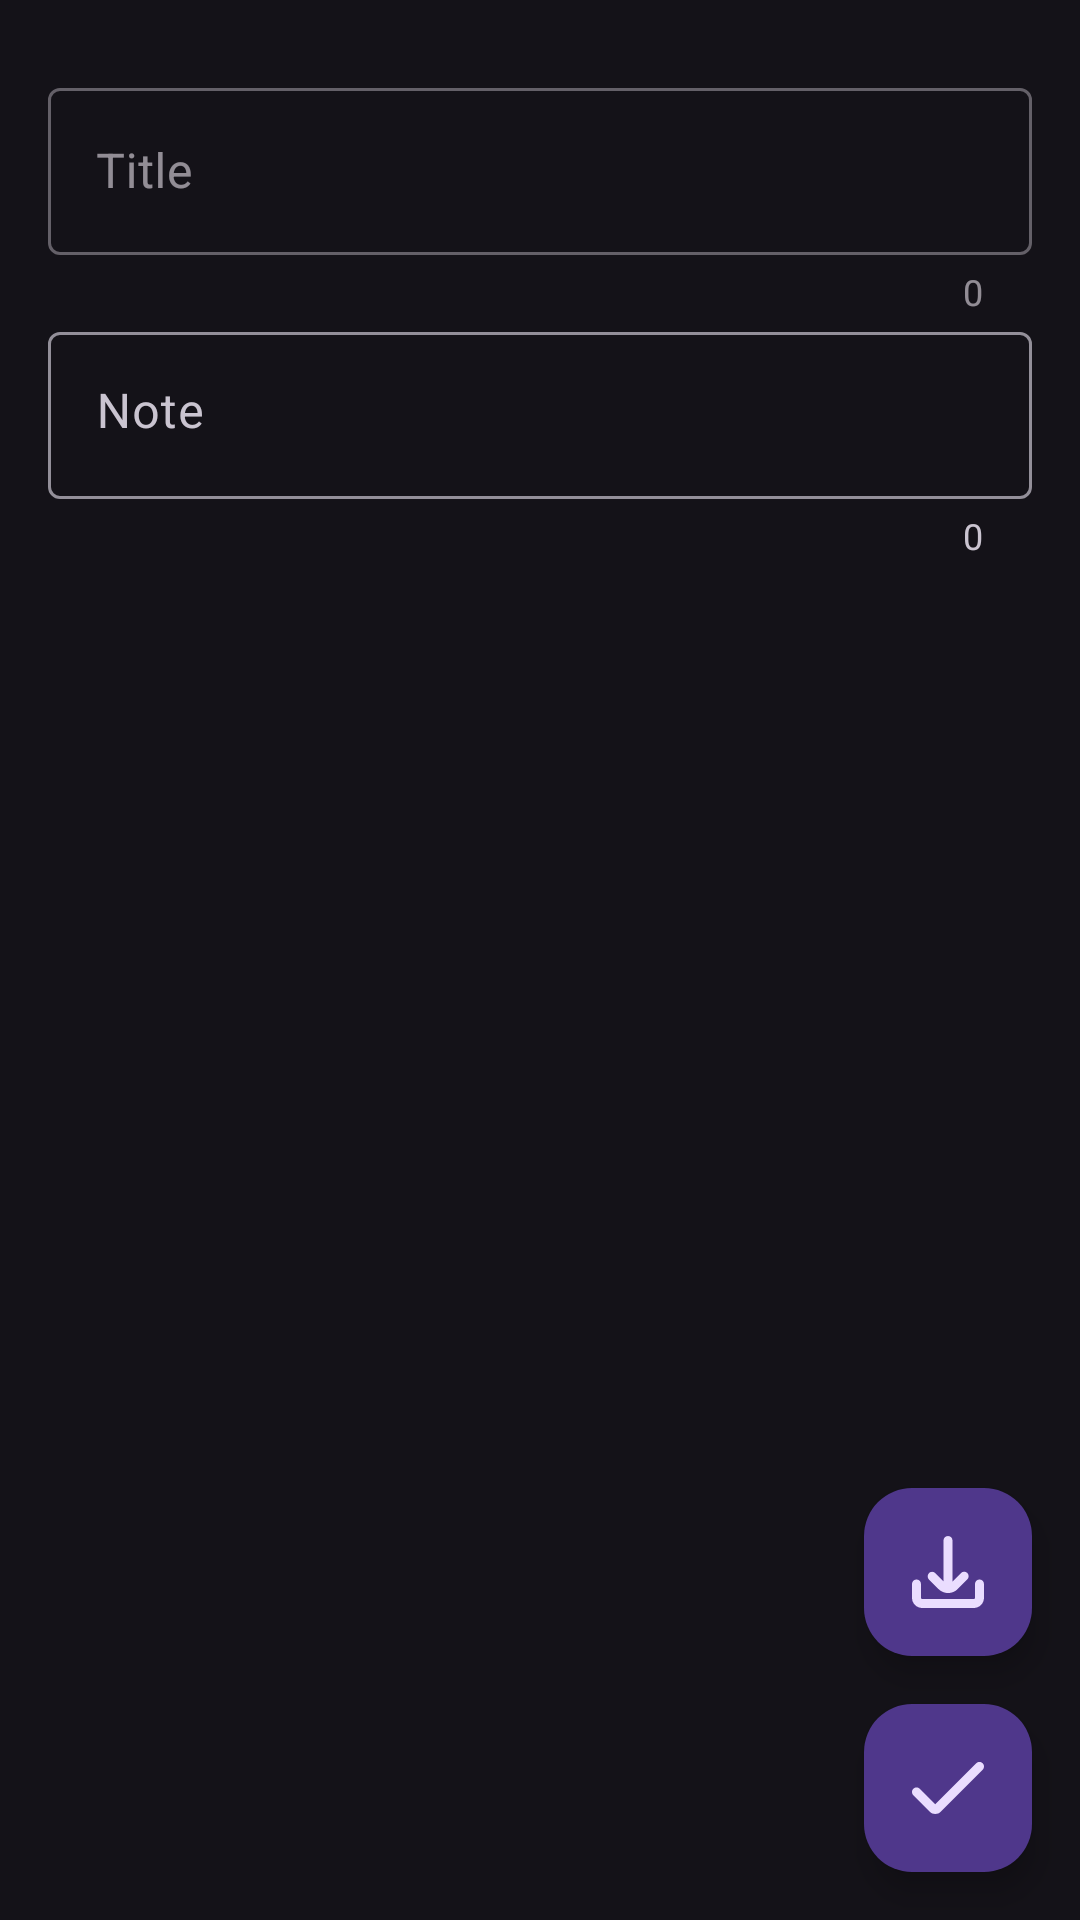

Icon bounding boxes for this 1080x1920 phone screenshot, format (left=x1, top=y1, right=x2, bottom=y2):
check: (left=864, top=1704, right=1032, bottom=1872)
download: (left=864, top=1488, right=1032, bottom=1656)
